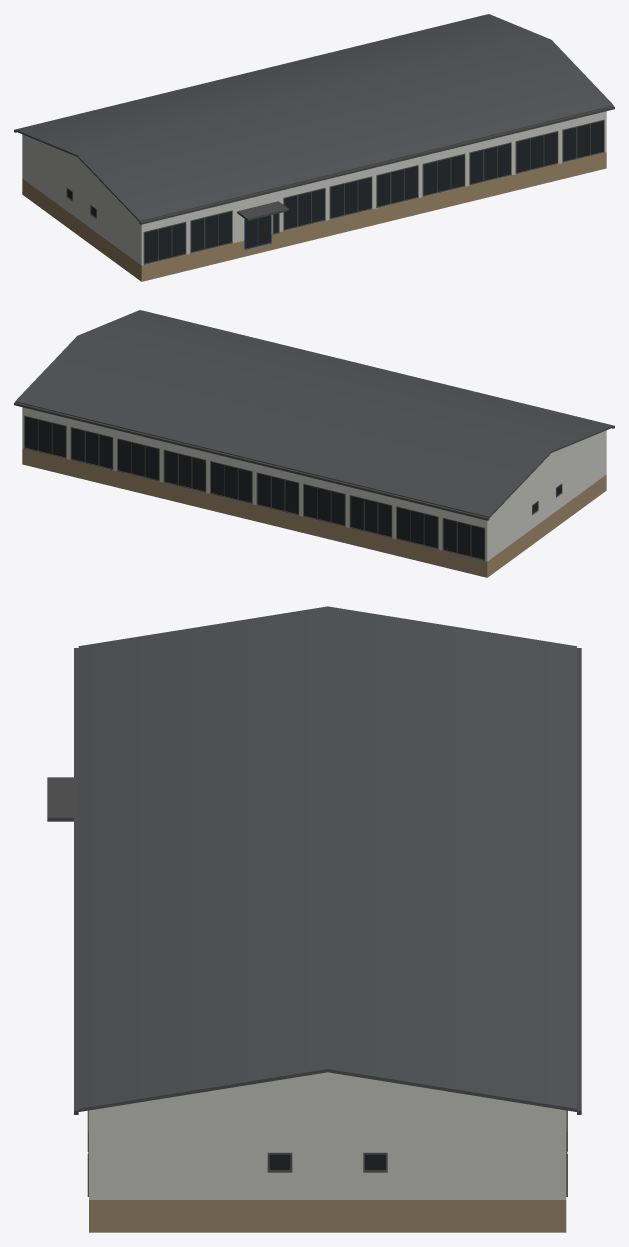
Rendered from context.school.modern_school.glb.
3 renders of one model, top to bottom at view 1: azimuth 30°, elevation 25°; view 2: azimuth 150°, elevation 25°; view 3: azimuth 270°, elevation 25°, orthographic. The views are drawn at different scales.
Visible parts, largest first — view 1: main__clad_555, main__paint_223, main__concrete_ccc, main__brick_a87, main__paint_555, main__steel_555; view 2: main__clad_555, main__paint_223, main__concrete_ccc, main__brick_a87, main__paint_555, main__steel_555; view 3: main__clad_555, main__concrete_ccc, main__brick_a87, main__steel_555.
Part boxes in pixels (left/top/right/bottom): main__clad_555: left=15, top=14, right=613, bottom=221; main__paint_223: left=67, top=120, right=603, bottom=263; main__concrete_ccc: left=22, top=111, right=606, bottom=265; main__brick_a87: left=22, top=152, right=606, bottom=281; main__paint_555: left=66, top=119, right=604, bottom=264; main__steel_555: left=14, top=14, right=614, bottom=224; main__clad_555: left=15, top=310, right=613, bottom=517; main__paint_223: left=25, top=416, right=561, bottom=559; main__concrete_ccc: left=22, top=407, right=606, bottom=561; main__brick_a87: left=22, top=448, right=606, bottom=577; main__paint_555: left=24, top=415, right=562, bottom=560; main__steel_555: left=14, top=310, right=614, bottom=520; main__clad_555: left=78, top=606, right=576, bottom=1111; main__concrete_ccc: left=89, top=1072, right=566, bottom=1199; main__brick_a87: left=89, top=1200, right=566, bottom=1232; main__steel_555: left=47, top=648, right=581, bottom=1114.
Size of the model in its own units: 36.7 by 6.21 by 17.91.
